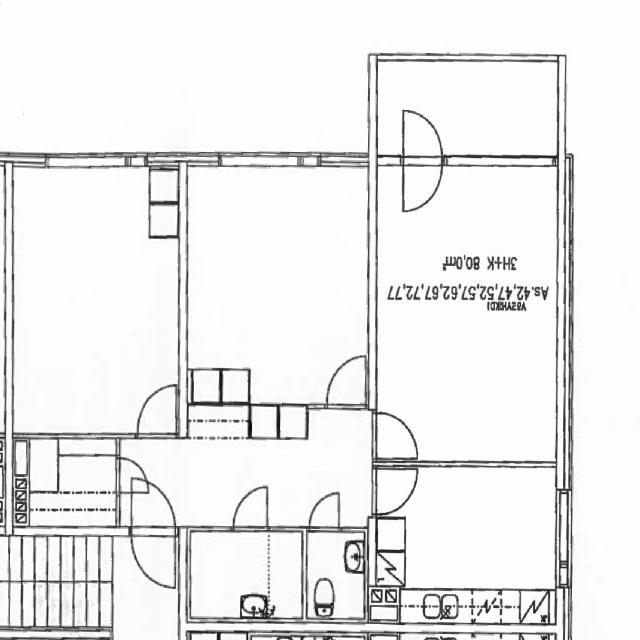door: (398, 107, 446, 216), (131, 530, 179, 589), (323, 349, 370, 408), (133, 381, 180, 438), (374, 407, 422, 461), (372, 463, 418, 519), (131, 477, 177, 528), (230, 479, 273, 531), (306, 488, 345, 532), (116, 456, 150, 492)
window: (444, 150, 558, 174), (550, 485, 576, 585), (317, 149, 367, 171), (3, 149, 49, 169)
zone: (378, 160, 564, 463), (7, 164, 181, 442), (183, 169, 369, 412), (371, 464, 566, 622), (184, 528, 307, 622), (9, 435, 124, 534), (304, 528, 368, 620), (188, 368, 222, 405), (220, 368, 251, 404)
